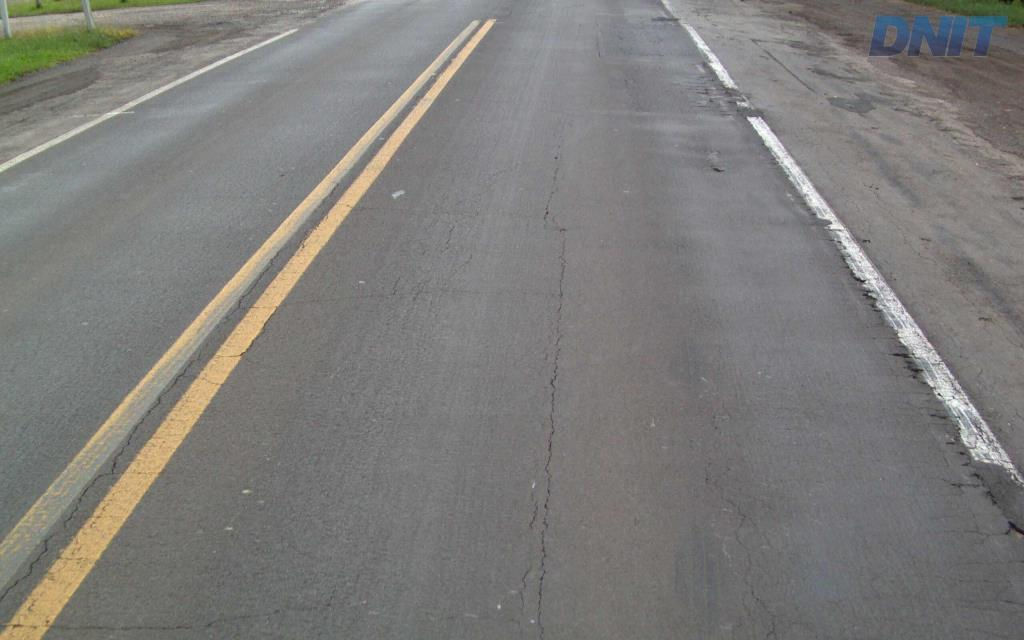crack: (544, 348, 560, 473)
